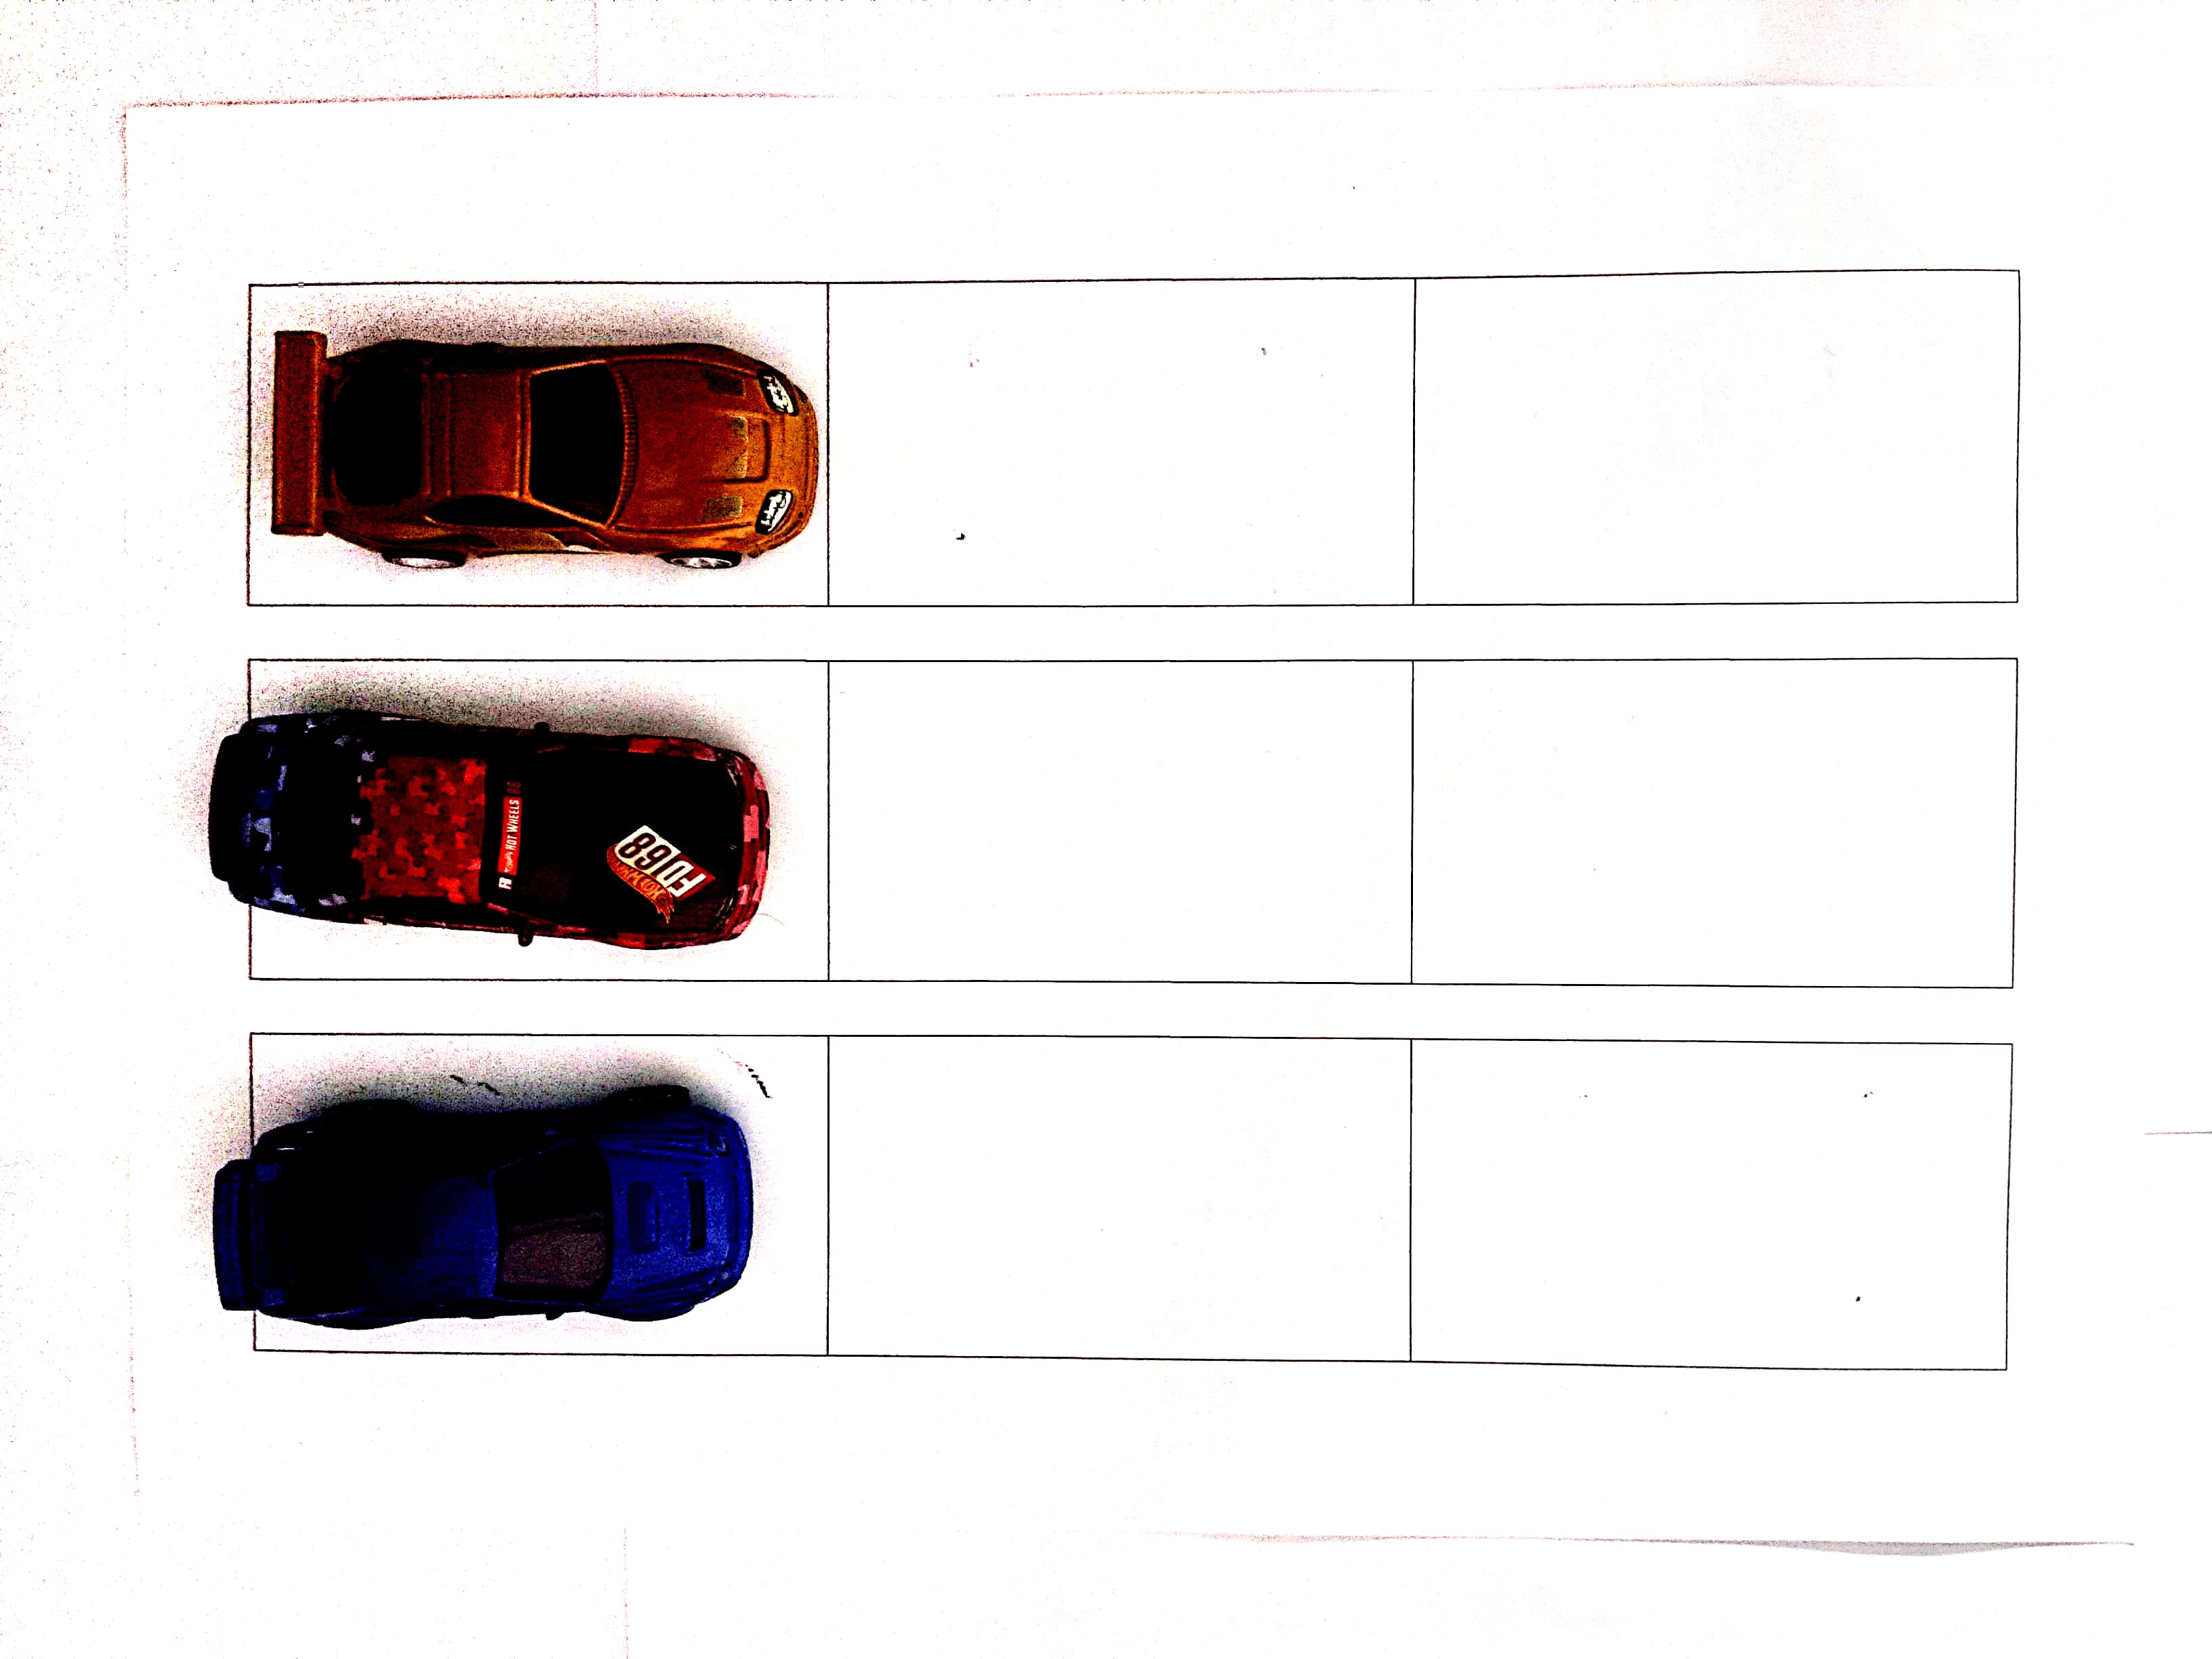Busy: (254, 279, 829, 605), (249, 1033, 829, 1352), (254, 662, 827, 972)
Free: (1418, 265, 2019, 596), (1409, 1033, 2008, 1363), (1407, 664, 2012, 981), (829, 279, 1413, 606), (833, 1035, 1414, 1361), (829, 664, 1407, 976)
